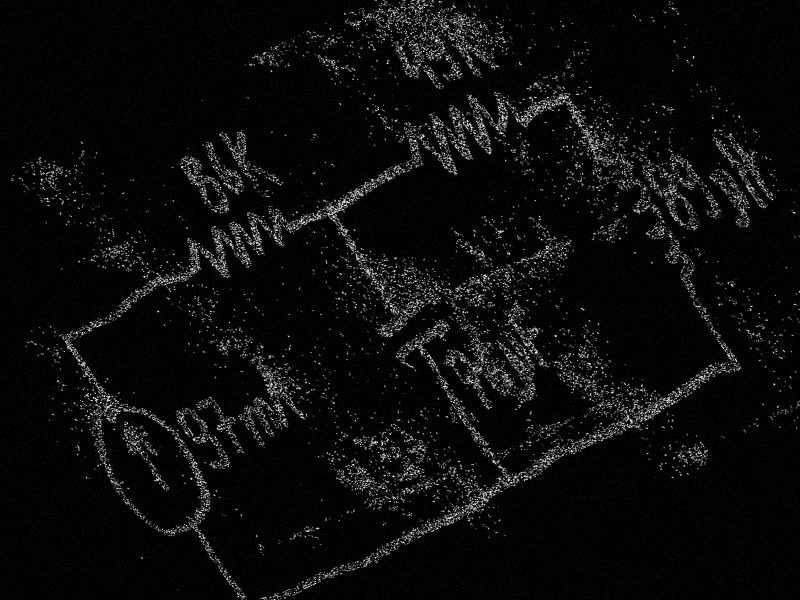4: (386, 33, 449, 100)
6: (457, 327, 522, 401), (195, 136, 252, 199)
7: (434, 340, 505, 417), (190, 388, 259, 463)
8: (635, 155, 710, 240), (173, 149, 240, 222)
9: (166, 398, 239, 478), (661, 149, 731, 227), (410, 22, 472, 92)
A: (241, 353, 311, 431)
F: (497, 298, 561, 370)
H: (708, 127, 782, 213)
k: (214, 120, 291, 204), (436, 11, 504, 83)
m: (231, 394, 290, 448)
u: (487, 328, 555, 403), (702, 164, 764, 232)
